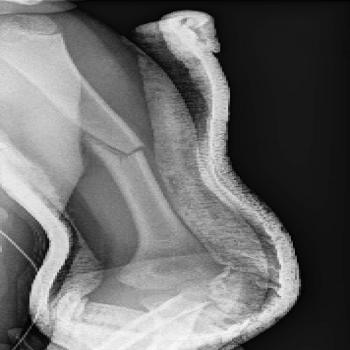Fracture: (83, 134, 150, 162)
